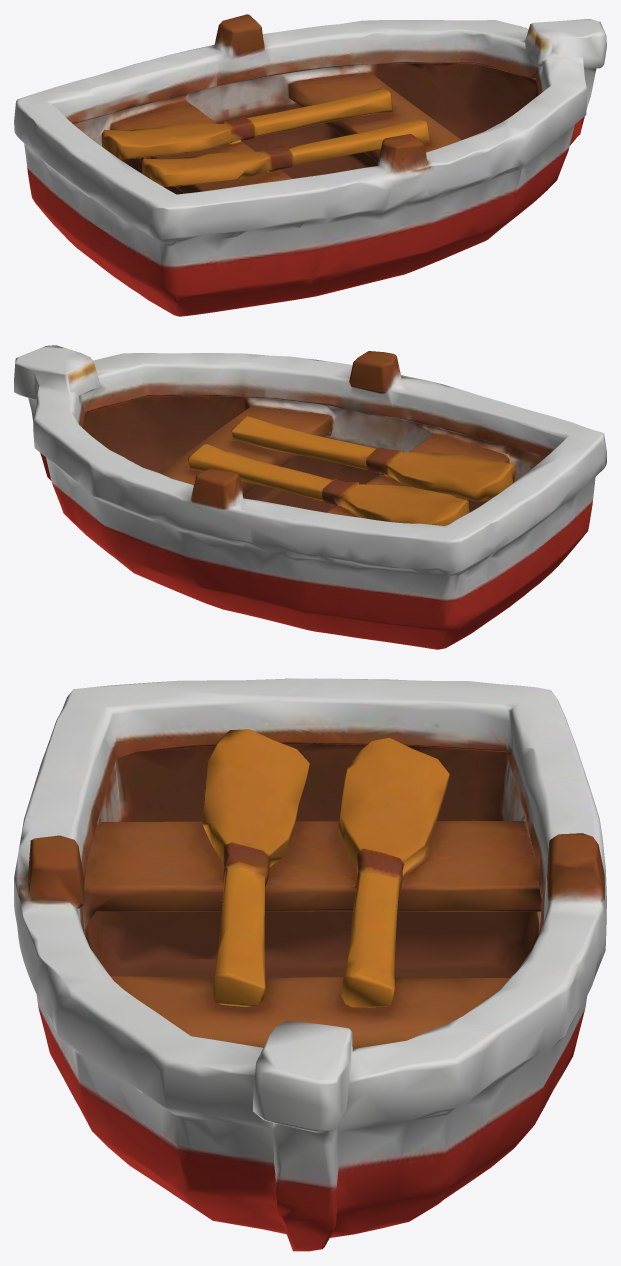
File: rowboat.glb
The picture shows the model from 3 angles, top to bottom: view 1: azimuth 30°, elevation 25°; view 2: azimuth 150°, elevation 25°; view 3: azimuth 270°, elevation 25°; orthographic projection. The views are drawn at different scales.
Parts seen in each view (by area): view 1: tripo_node_22ede67a-e595-4e5c-9dd4-078443f6a73a; view 2: tripo_node_22ede67a-e595-4e5c-9dd4-078443f6a73a; view 3: tripo_node_22ede67a-e595-4e5c-9dd4-078443f6a73a.
Part boxes in pixels (bbox=[...]): tripo_node_22ede67a-e595-4e5c-9dd4-078443f6a73a: bbox=[14, 14, 606, 316]; tripo_node_22ede67a-e595-4e5c-9dd4-078443f6a73a: bbox=[14, 345, 606, 649]; tripo_node_22ede67a-e595-4e5c-9dd4-078443f6a73a: bbox=[14, 678, 606, 1251].
Size of the model in its own units: 1 by 0.272 by 0.6004.
1 material, 1 textured.
